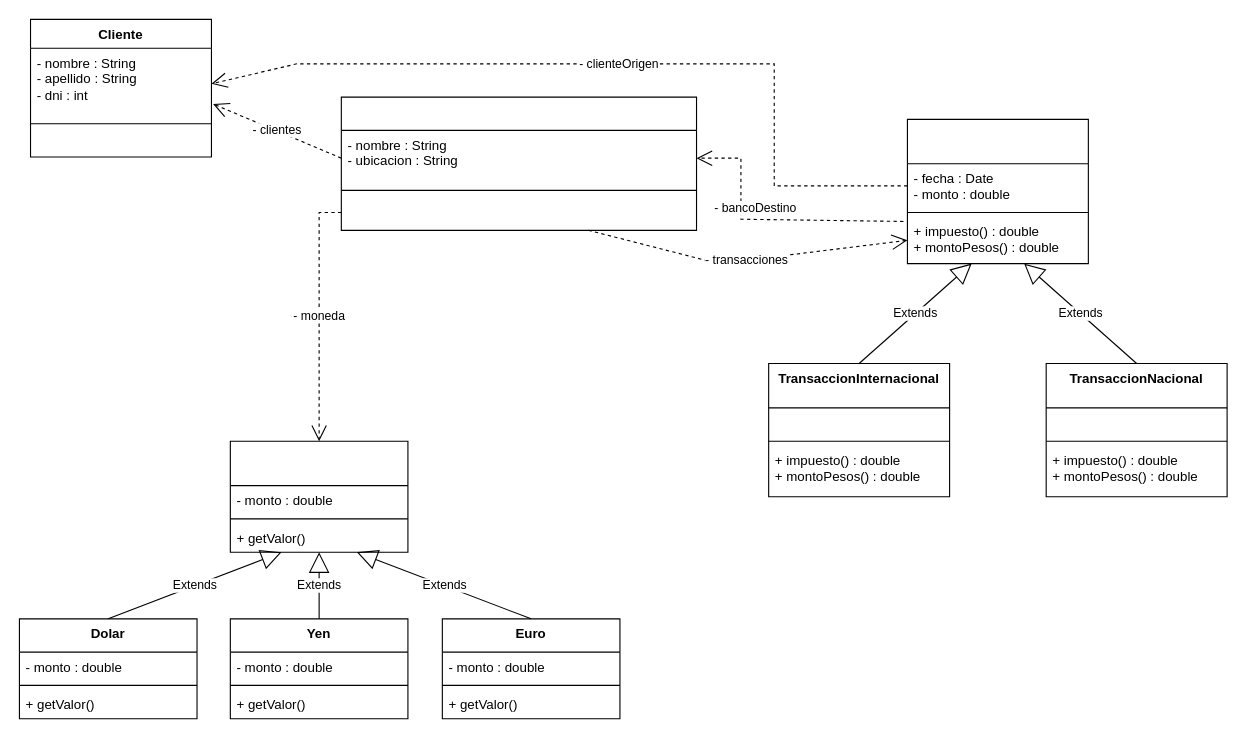
Image size: 1247x741. Some labels were removed from this diagram. The shapes that lost their labels are listed below. From the top down, each one's box as (x1, y1, x2, y2) in pixels, then its label:
(340, 96, 697, 230): Banco
(906, 118, 1088, 264): << abstract >> Transaccion
(229, 440, 408, 552): << abstract >> Moneda
